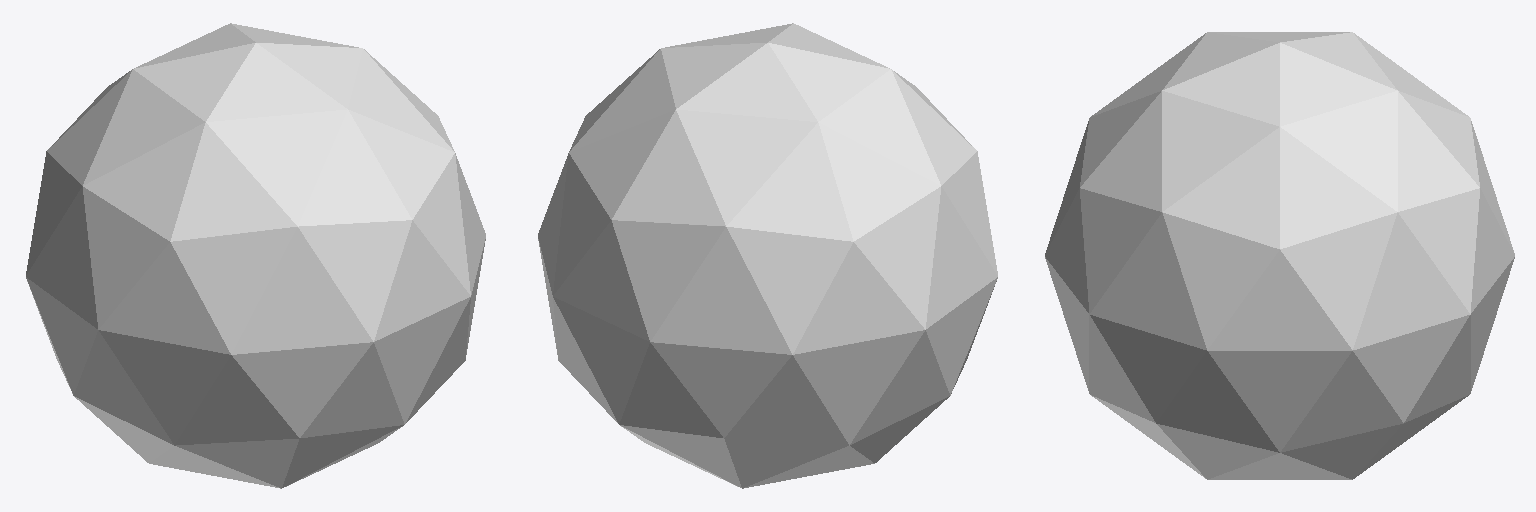
The model's file is white.obj.
3 renders of one model, left to right at view 1: azimuth 30°, elevation 25°; view 2: azimuth 150°, elevation 25°; view 3: azimuth 270°, elevation 25°, orthographic.
Visible parts, largest first — view 1: ICO球; view 2: ICO球; view 3: ICO球.
Part boxes in pixels (bbox=[...]): ICO球: bbox=[26, 23, 485, 488]; ICO球: bbox=[538, 23, 997, 488]; ICO球: bbox=[1045, 32, 1514, 479].
Size of the model in its own units: 1.9 by 2 by 2.